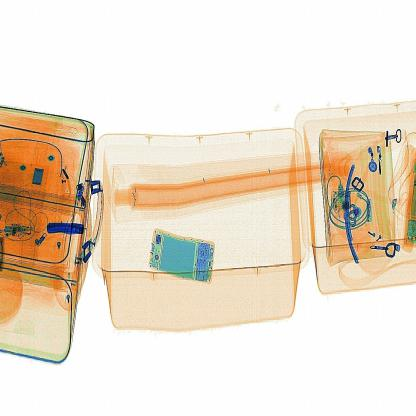knife: (44, 215, 94, 241)
